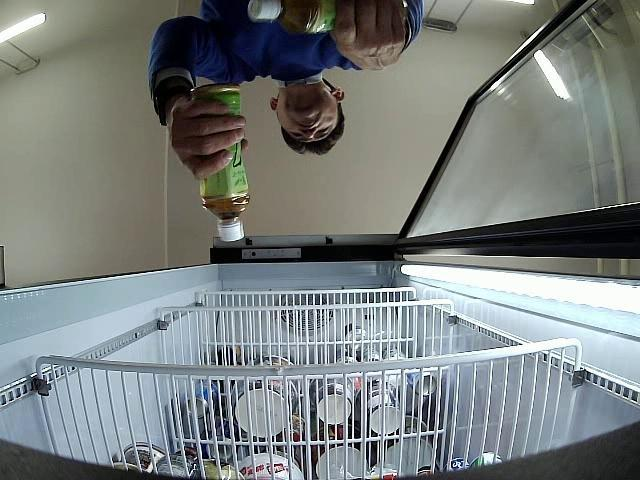19_17cha: (198, 82, 250, 241), (246, 0, 409, 35)
